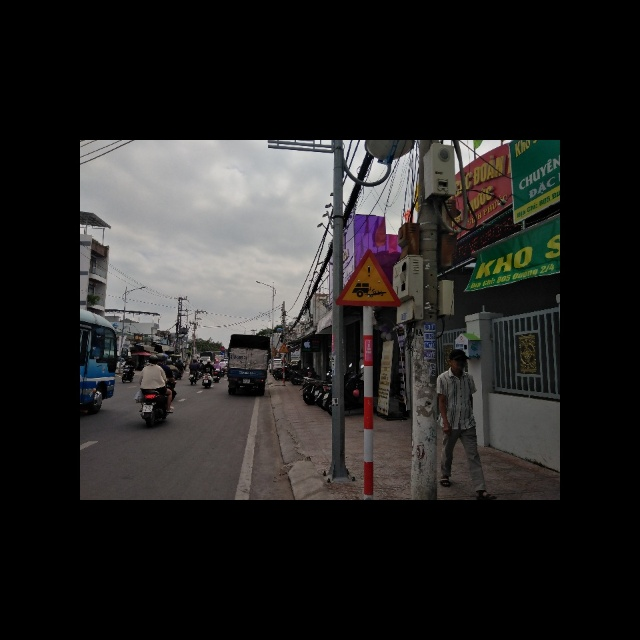Đoạn đường hay xảy ra tai nạn: (337, 249, 401, 307)
Đường đôi: (278, 342, 291, 353)
